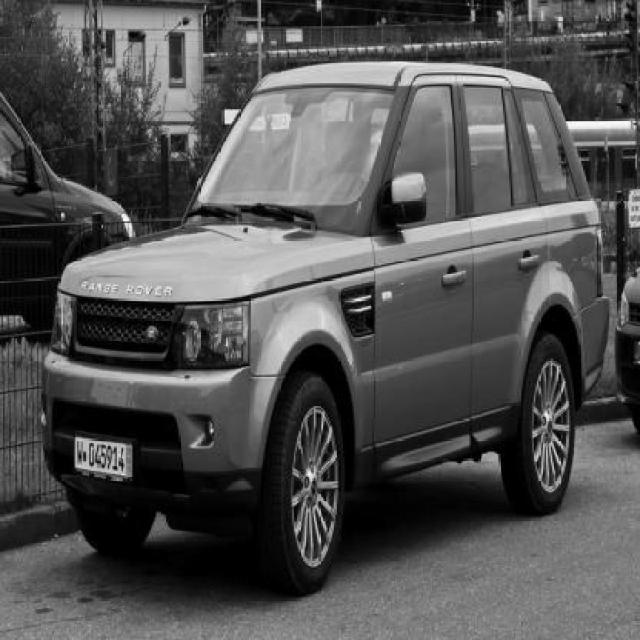car: (38, 57, 612, 591)
license-plate: (72, 431, 136, 480)
